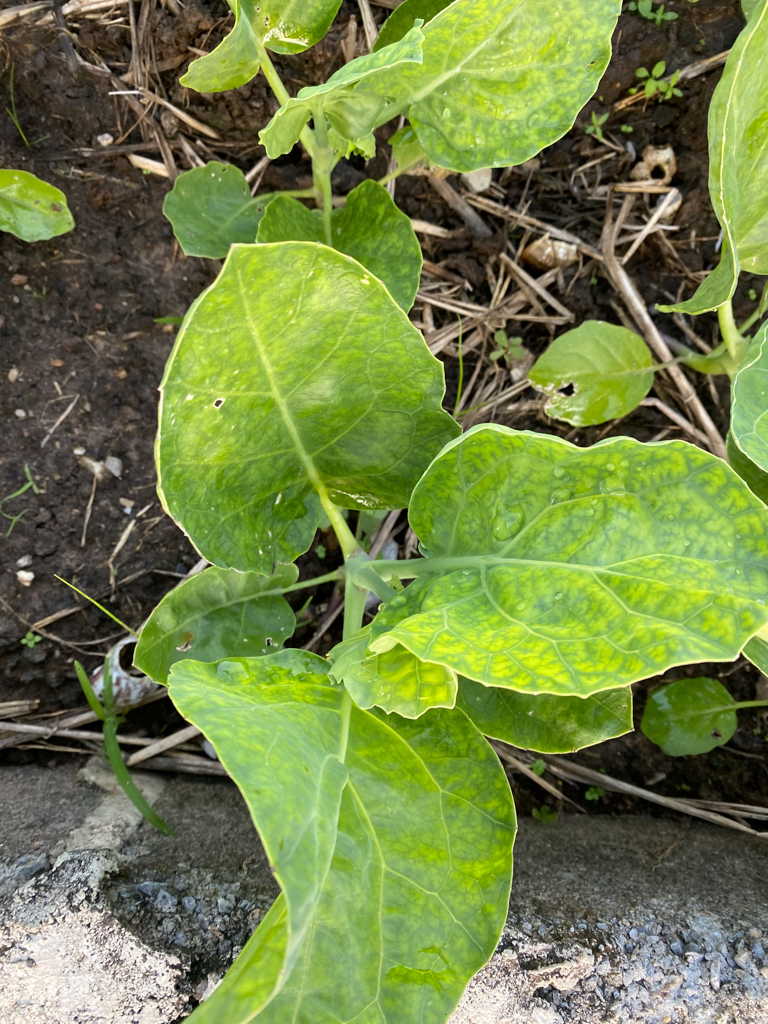Pepper yellow leaf: (156, 239, 403, 560), (402, 558, 746, 701), (392, 4, 633, 174)
